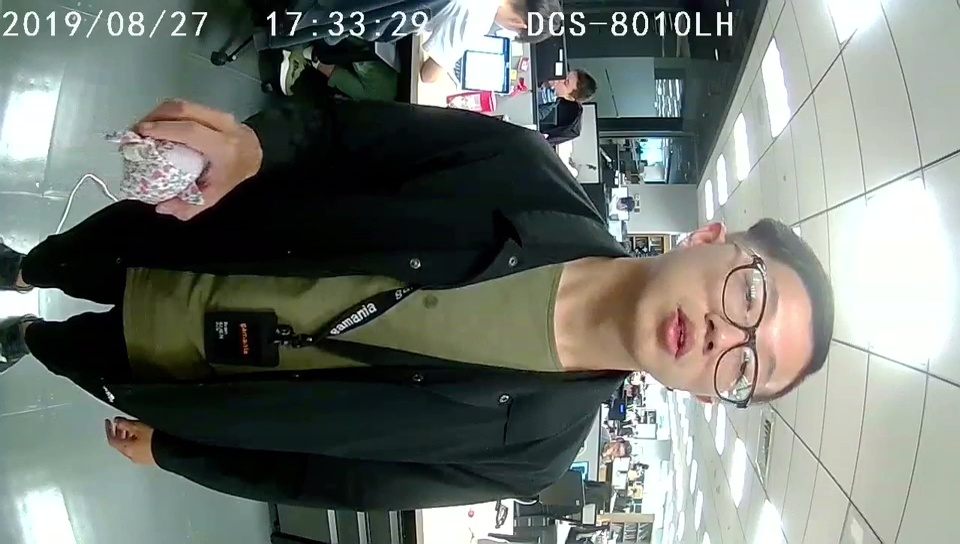pig: (122, 126, 209, 207)
